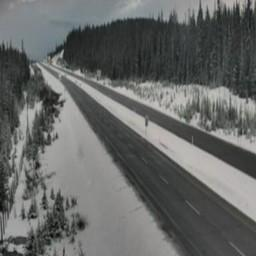Snow: (41, 62, 255, 222), (36, 63, 176, 255), (89, 78, 208, 132), (139, 82, 255, 113), (3, 158, 46, 239), (9, 102, 42, 173), (209, 129, 255, 153), (52, 50, 84, 78)
